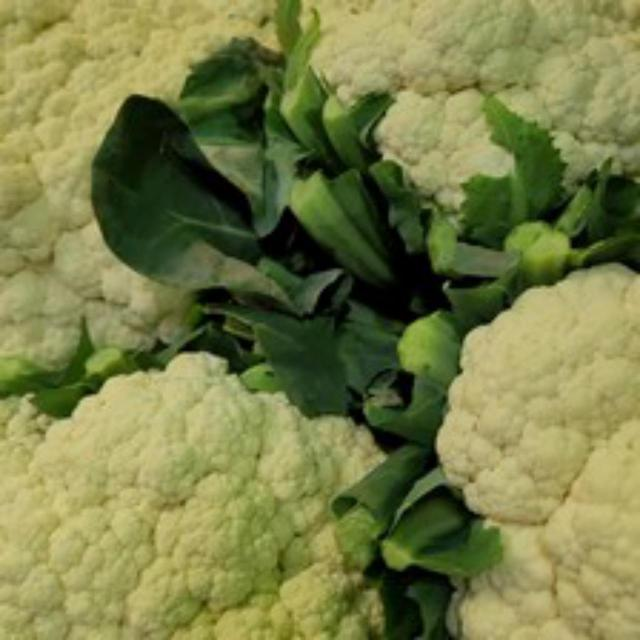cauliflower: (0, 340, 428, 637)
